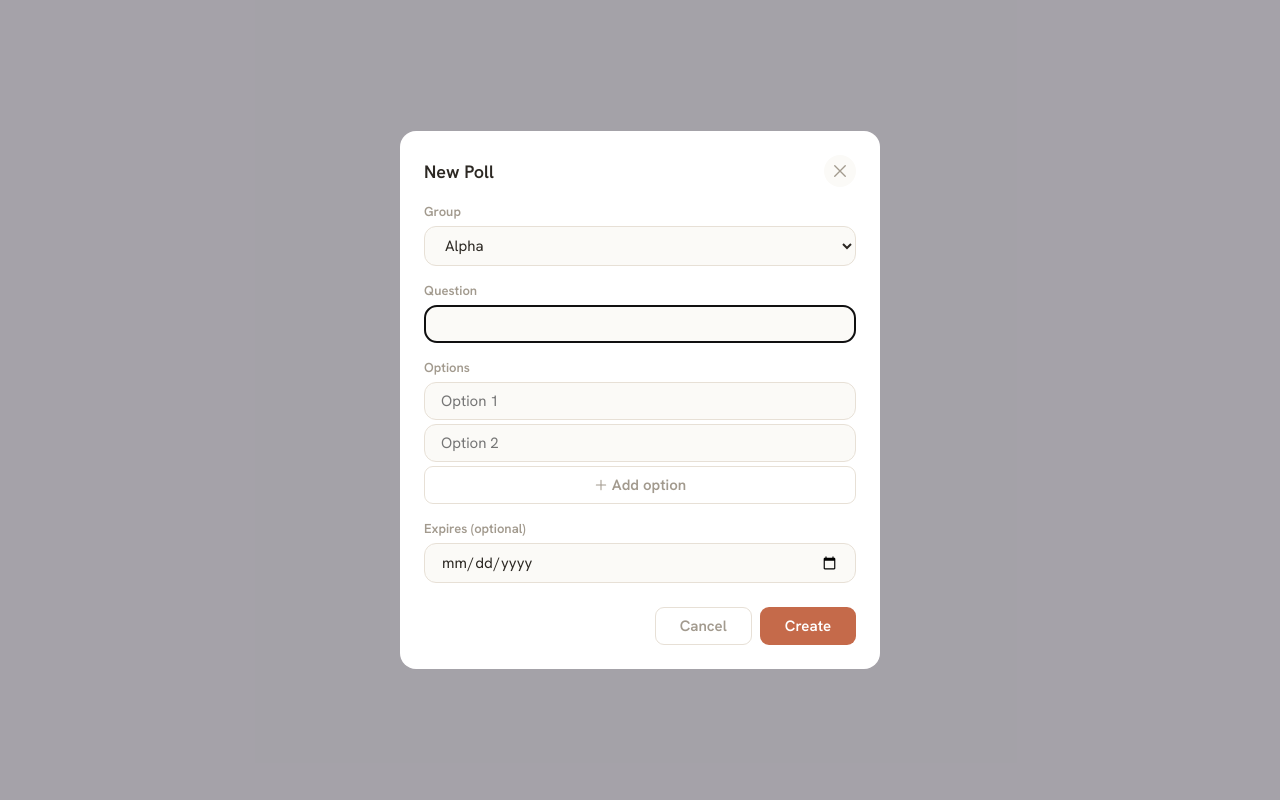
Test: PollCreateModal › rejects an expiry in the past
Type "Pick one" into the field labelled "Question".
click(640, 324); type("Pick one")  # box [424,305,856,343]
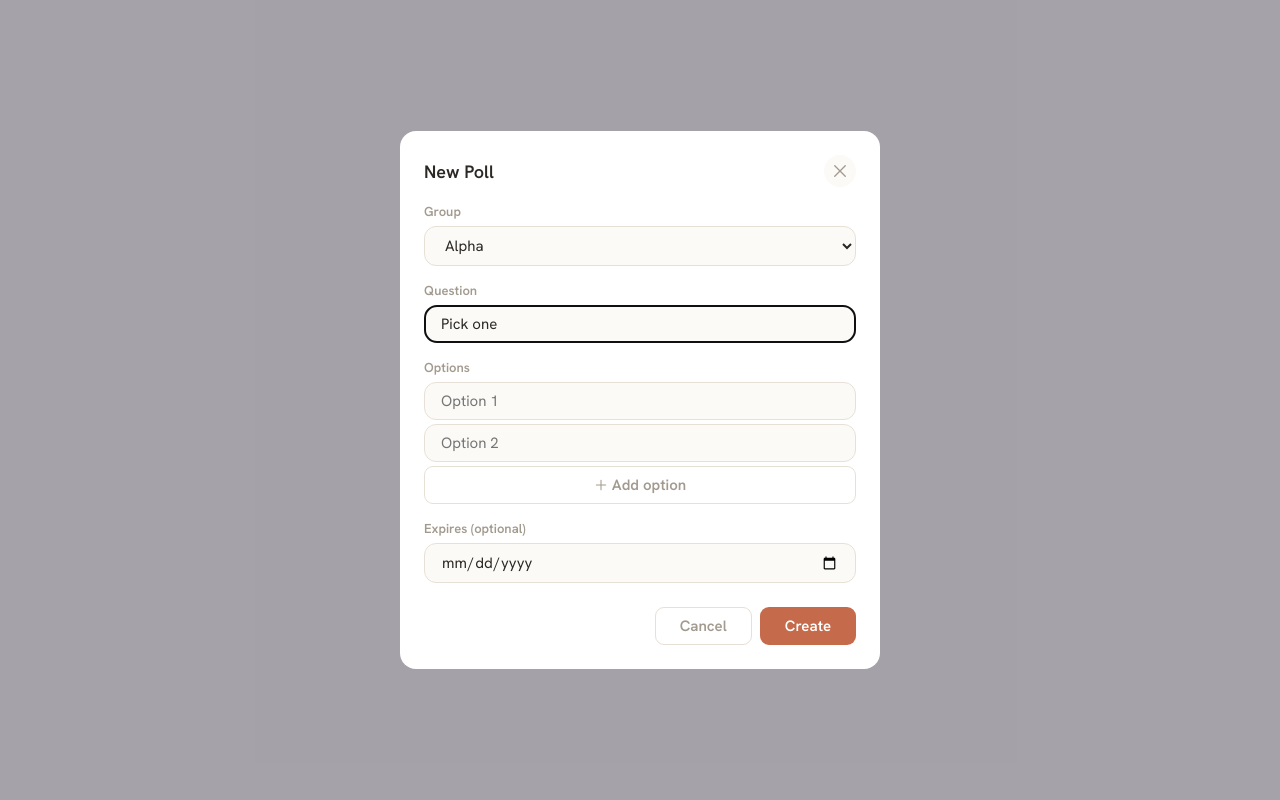
Type "Tacos" into the field with placeholder "Option 1".
click(640, 401); type("Tacos")  # box [424,382,856,420]
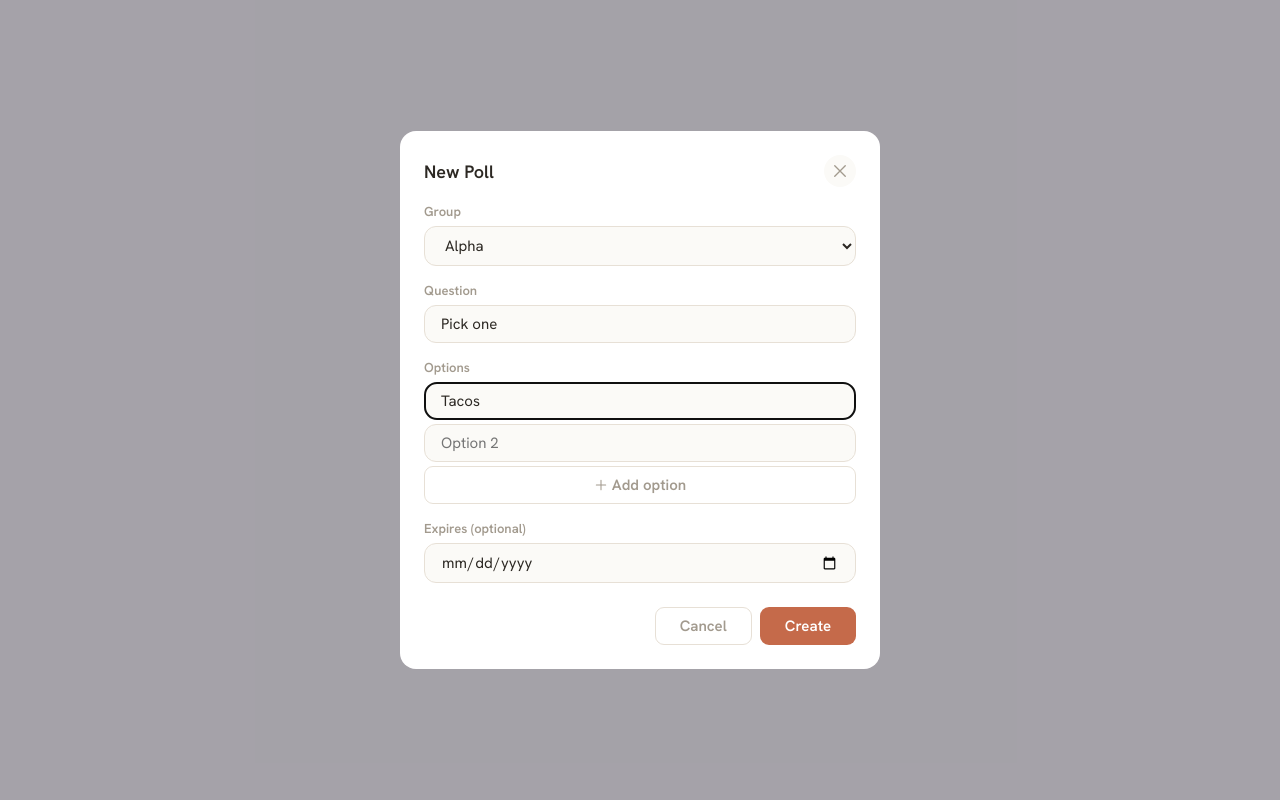
Type "Pizza" into the field with placeholder "Option 2".
click(640, 443); type("Pizza")  # box [424,424,856,462]
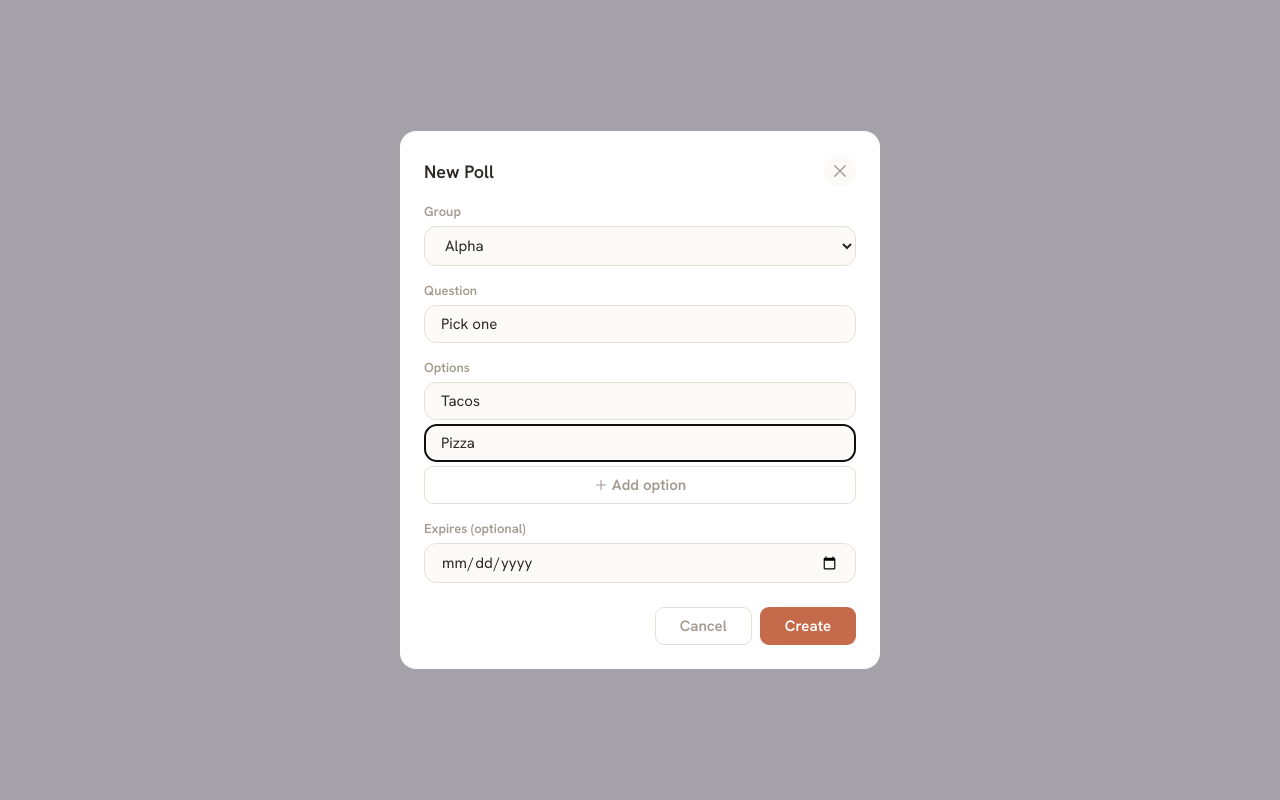
Type "2000-01-01" into the date field labelled "Expires (optional)".
click(640, 563); type("2000-01-01")  # box [424,543,856,583]
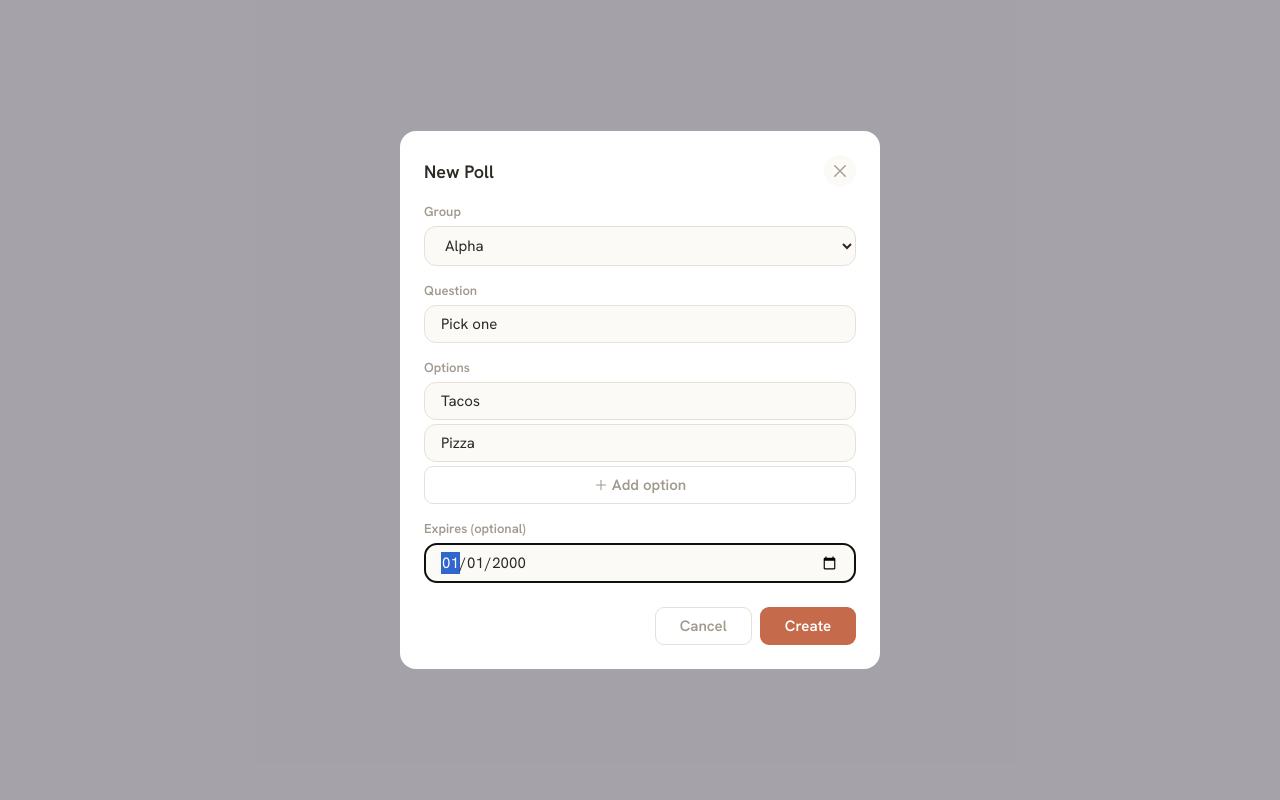
Click the button "Create".
click(808, 626)  # box [760,607,856,645]
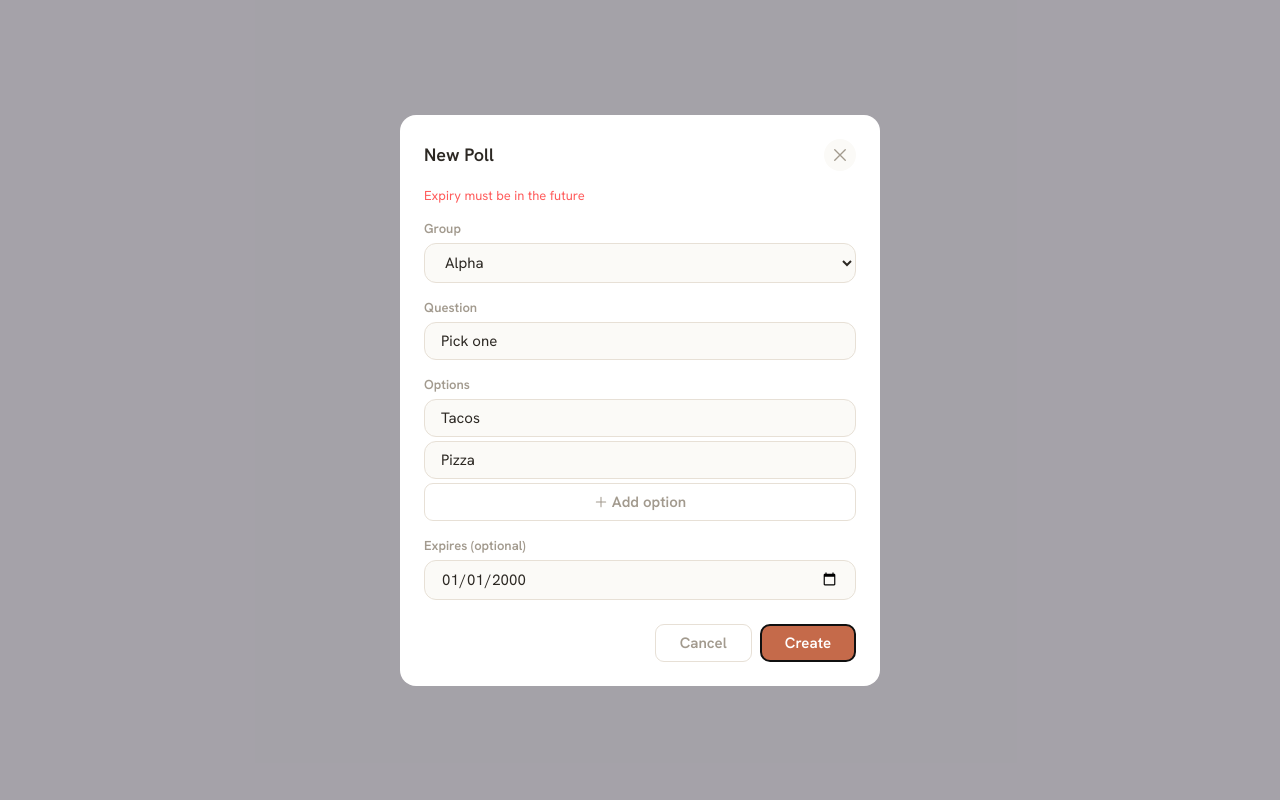
Result: the text "Expiry must be in the future" is shown at [424,186,585,204]
